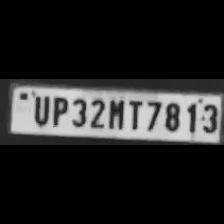1: (182, 100, 198, 134)
2: (87, 96, 105, 128)
3: (199, 99, 219, 135), (68, 95, 86, 127)
7: (141, 97, 161, 132)
8: (160, 100, 182, 132)
M: (105, 96, 125, 132)
P: (48, 94, 68, 126)
T: (125, 97, 143, 130)
U: (28, 93, 50, 125)
